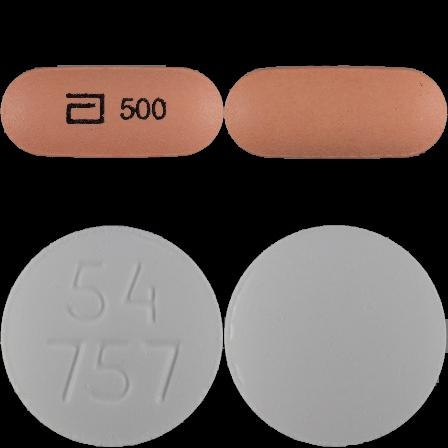68151-4068: (0, 0, 224, 224)
